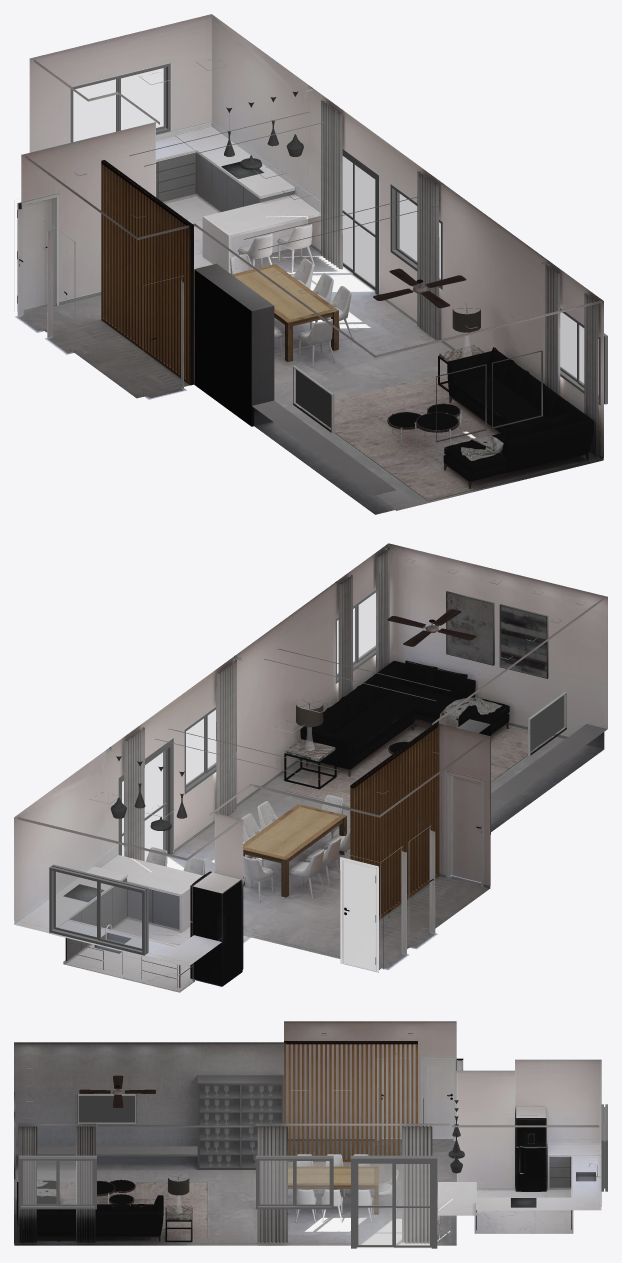
The model's file is neusa_frois-transformed.glb.
3 renders of one model, top to bottom at view 1: azimuth 30°, elevation 25°; view 2: azimuth 150°, elevation 25°; view 3: azimuth 270°, elevation 25°, orthographic. The views are drawn at different scales.
Visible parts, largest first — view 1: Line001, Obj3d66-707242-43-731, Box076, Box065, Box077, SlidingWindow004, SlidingDoor001, SlidingWindow003, SlidingWindow002, Object287_Material #2146801361_0, [313]; view 2: Line001, Obj3d66-707242-43-731, Box076, Box065, SlidingWindow004, SlidingDoor001, Object285_Material #2146801358_0, Object286_Material #2146801359_0, SlidingWindow003, SlidingWindow002, Object287_Material #2146801361_0, [313]; view 3: Line001, Object284__0, Obj3d66-707242-43-731, Box076, Box065, SlidingDoor001, Box077, Box078, SlidingWindow002, SlidingWindow003, Object287_Material #2146801361_0, SlidingWindow004.
Boxes of the visible parts, bbox=[...] form: Line001: bbox=[15, 14, 603, 514]; Obj3d66-707242-43-731: bbox=[14, 91, 594, 500]; Box076: bbox=[101, 160, 466, 385]; Box065: bbox=[321, 99, 598, 456]; Box077: bbox=[194, 263, 274, 426]; SlidingWindow004: bbox=[70, 63, 170, 142]; SlidingDoor001: bbox=[342, 149, 378, 294]; SlidingWindow003: bbox=[390, 184, 442, 289]; SlidingWindow002: bbox=[560, 308, 607, 405]; Object287_Material #2146801361_0: bbox=[296, 370, 330, 427]; [313]: bbox=[436, 350, 542, 442]; Line001: bbox=[14, 543, 607, 992]; Obj3d66-707242-43-731: bbox=[110, 660, 566, 985]; Box076: bbox=[243, 609, 476, 919]; Box065: bbox=[123, 548, 389, 861]; SlidingWindow004: bbox=[49, 864, 148, 955]; SlidingDoor001: bbox=[118, 738, 173, 861]; Object285_Material #2146801358_0: bbox=[500, 606, 546, 677]; Object286_Material #2146801359_0: bbox=[447, 592, 492, 664]; SlidingWindow003: bbox=[184, 707, 216, 794]; SlidingWindow002: bbox=[335, 590, 375, 683]; Object287_Material #2146801361_0: bbox=[529, 695, 564, 751]; [313]: bbox=[446, 591, 548, 678]; Line001: bbox=[14, 1021, 601, 1248]; Object284__0: bbox=[14, 1042, 283, 1146]; Obj3d66-707242-43-731: bbox=[17, 1057, 546, 1241]; Box076: bbox=[79, 1041, 417, 1214]; Box065: bbox=[18, 1126, 432, 1242]; SlidingDoor001: bbox=[351, 1155, 437, 1248]; Box077: bbox=[197, 1075, 283, 1169]; Box078: bbox=[200, 1085, 281, 1167]; SlidingWindow002: bbox=[19, 1155, 96, 1209]; SlidingWindow003: bbox=[256, 1155, 333, 1209]; Object287_Material #2146801361_0: bbox=[78, 1095, 134, 1122]; SlidingWindow004: bbox=[601, 1104, 607, 1191].
Bounding box in the file's own units: 6.05 × 3.06 × 13.75.
Materials: 18 (10 with a texture image).
